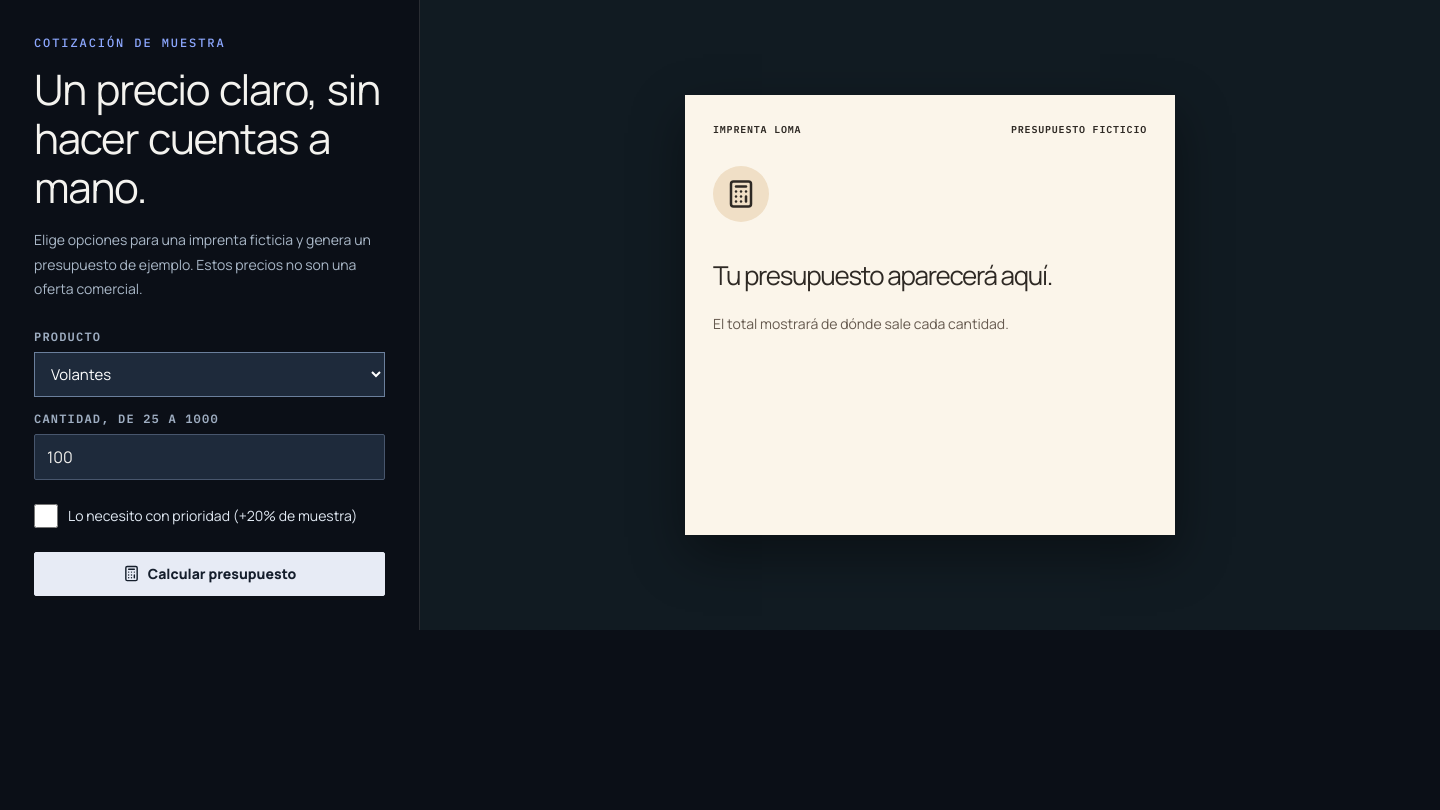
Test case: demos para negocios locales › muestra centavos sin alterar el total
This screenshot has width=1440, height=810.
Select "Tarjetas" in the dropdown at (210, 374), box [34,352,385,397]
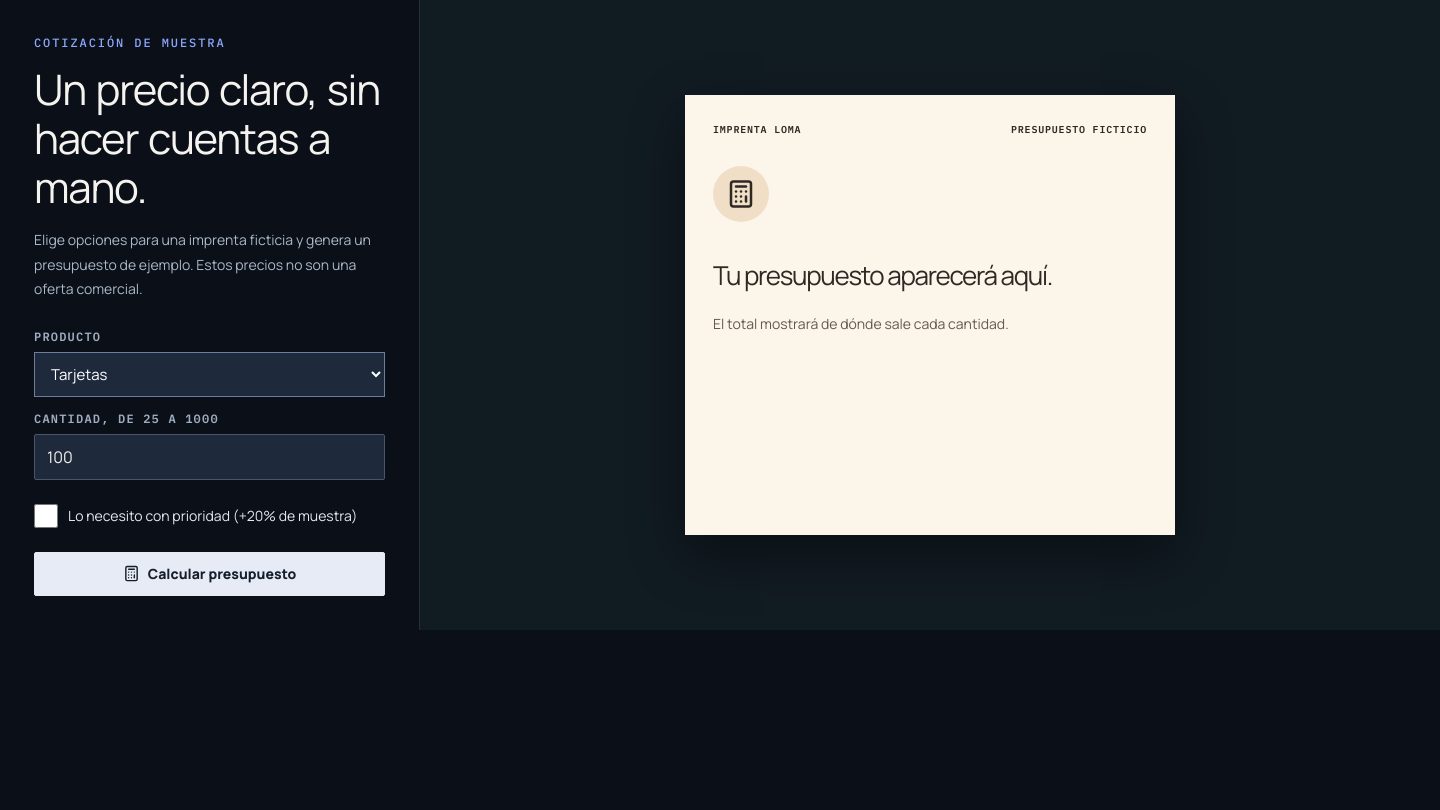
Replace the text in the number field with "25" at (210, 457), box [34,434,385,480]
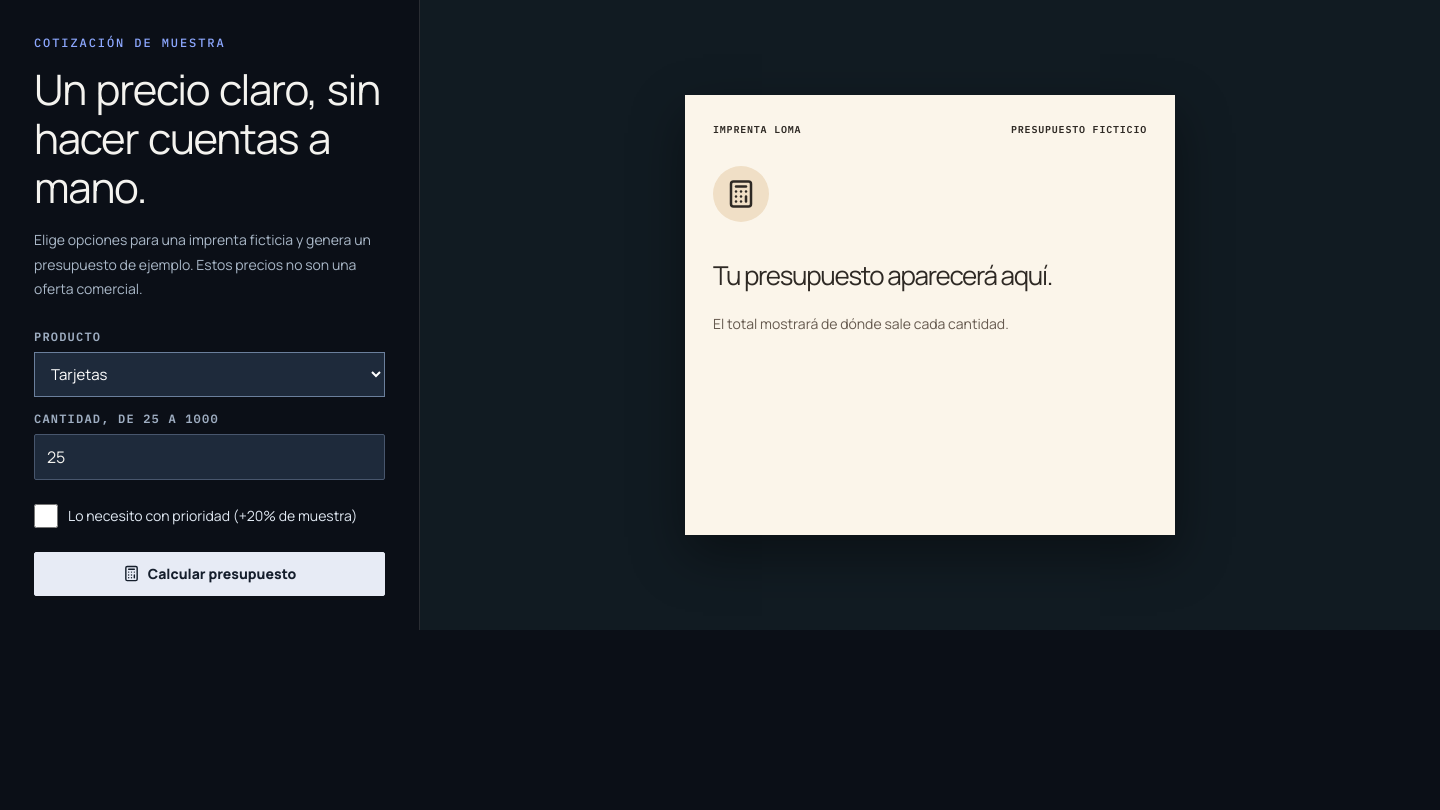
Click the button "Calcular presupuesto" at (210, 574), box [34,552,385,596]
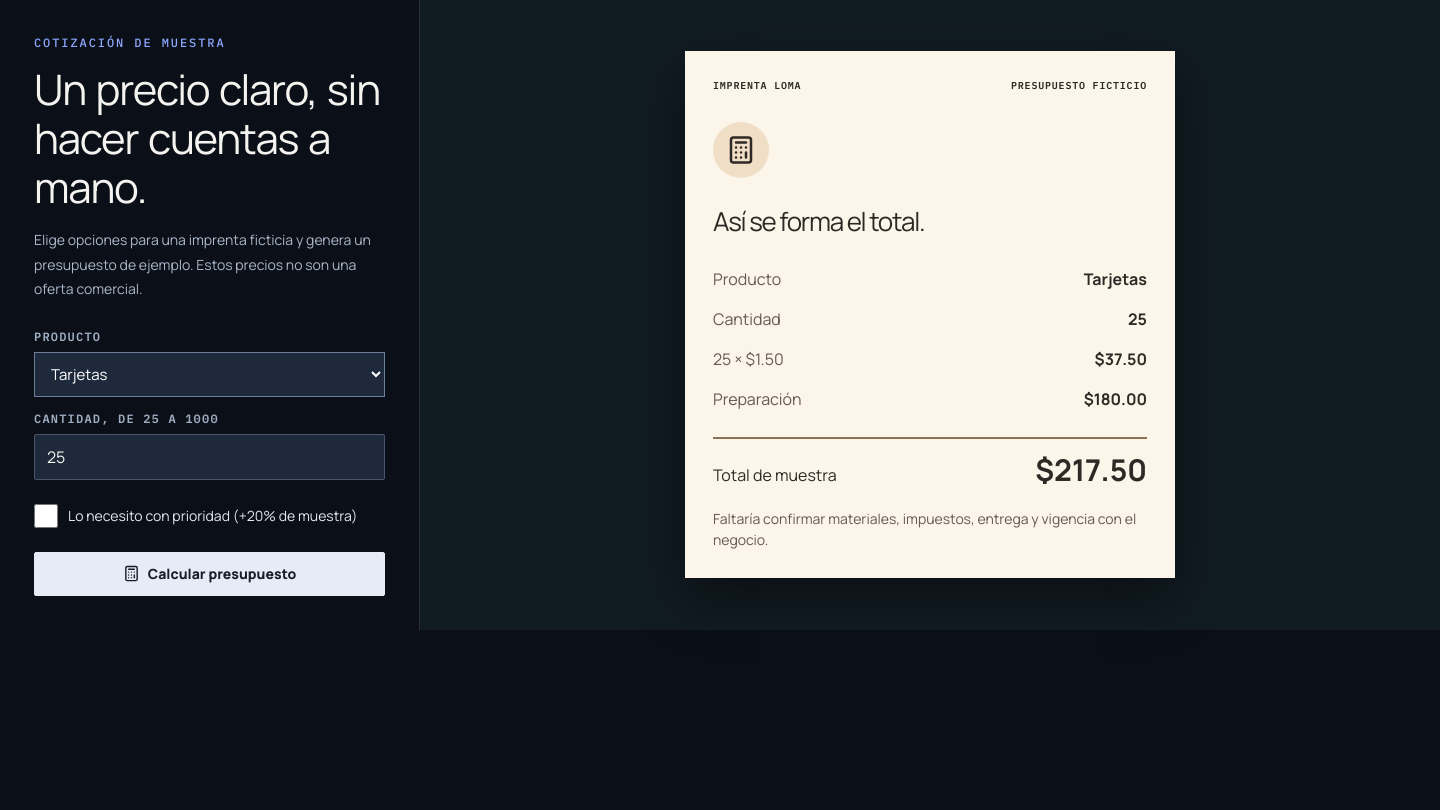
Check: the text "$37.50" is shown, box [1095,347,1147,371]
Check: the text "$217.50" is shown, box [1035,447,1147,492]
